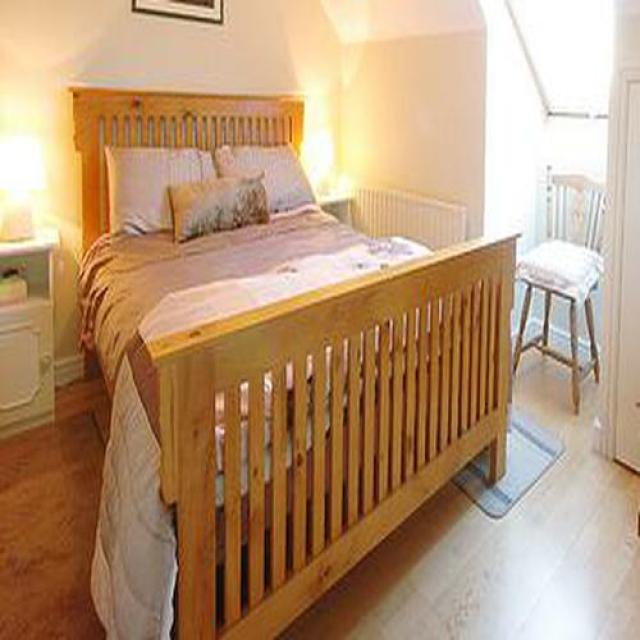bed: (72, 88, 518, 640)
